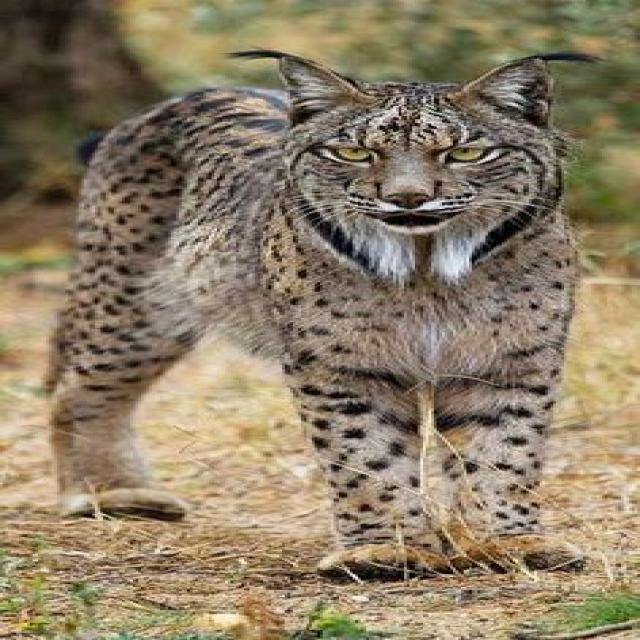Carnivorous: (46, 54, 578, 577)
